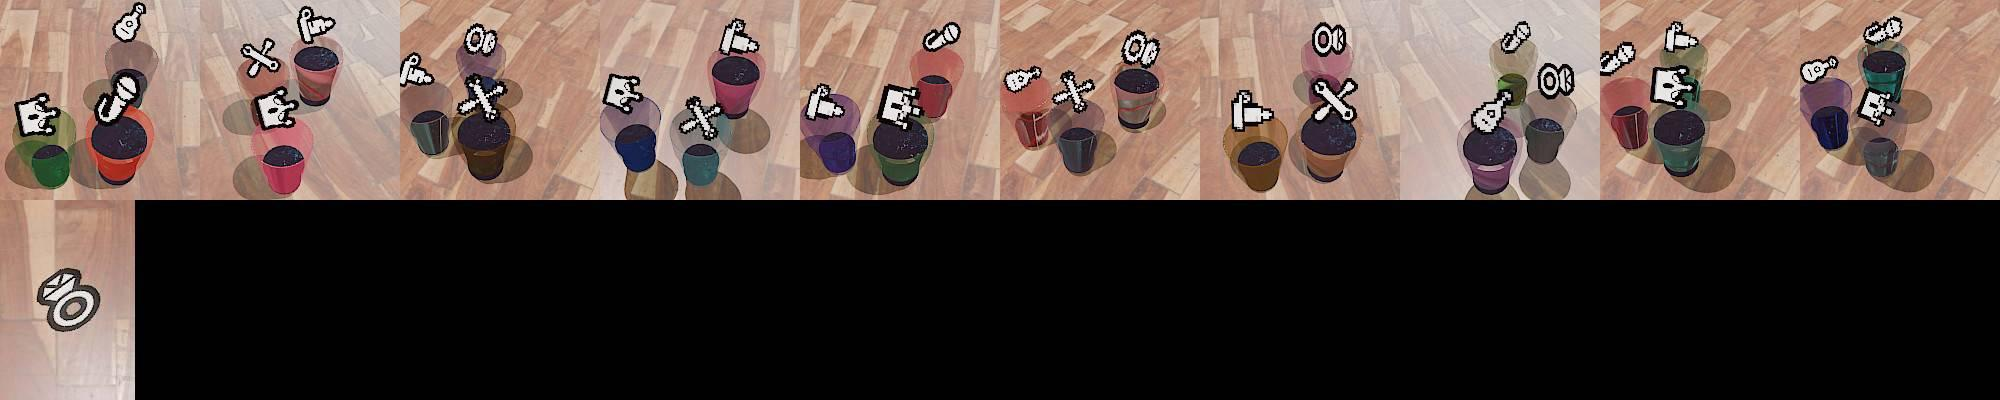icon: (36, 268, 102, 331), (93, 71, 144, 124), (876, 83, 925, 130), (458, 74, 505, 121), (1311, 75, 1358, 122), (253, 85, 301, 130), (1050, 69, 1097, 113), (677, 93, 722, 140), (14, 93, 61, 138), (1649, 65, 1698, 108), (602, 71, 647, 115), (1469, 92, 1513, 135), (1232, 87, 1274, 130), (240, 37, 282, 79), (718, 18, 761, 57), (802, 83, 846, 122), (296, 4, 337, 45), (1119, 29, 1159, 69), (1855, 88, 1895, 126), (1536, 61, 1575, 99), (112, 1, 148, 43), (398, 50, 435, 89), (1310, 20, 1348, 57), (1598, 41, 1636, 78), (1864, 15, 1904, 47), (922, 20, 962, 52), (1663, 22, 1700, 55), (464, 23, 499, 57), (1004, 65, 1043, 94), (1500, 19, 1533, 54), (1800, 56, 1839, 84)
